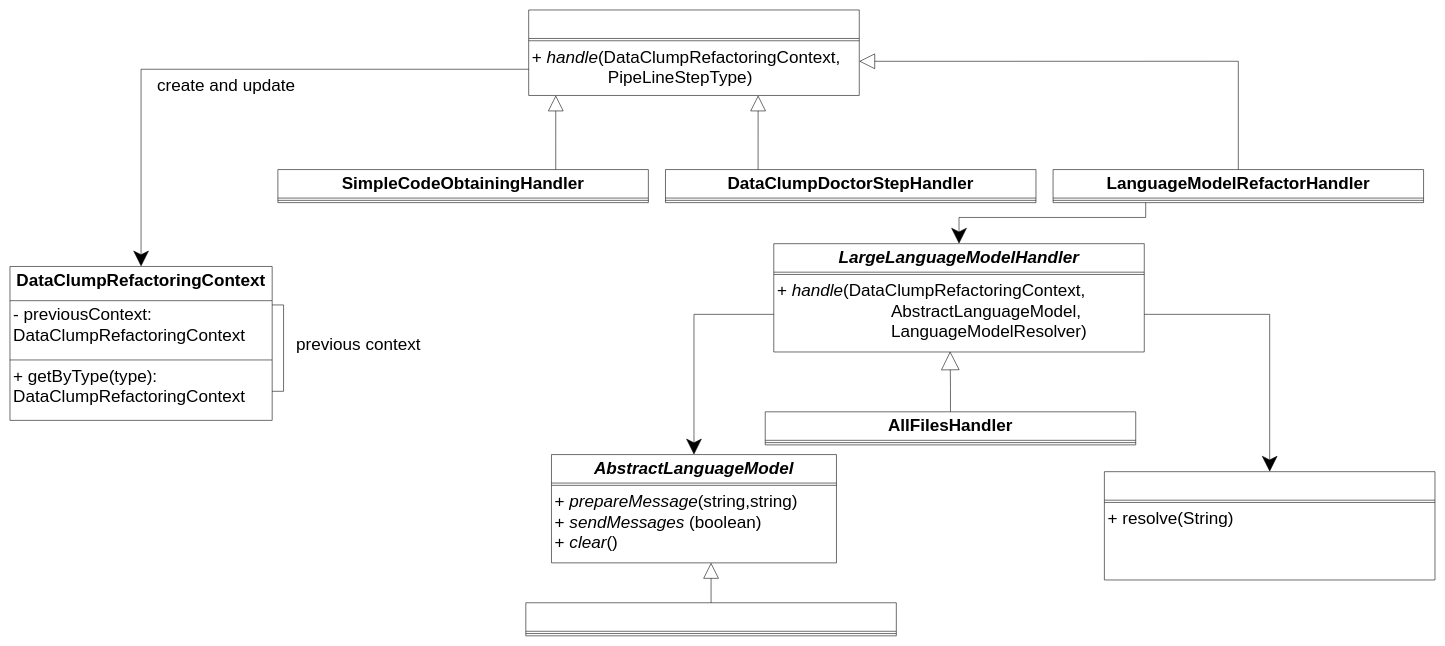
This 1445x646 diagram has some shape labels left out. Here are the shapes that lost their labels. From the top down, the box of each, then its label:
(528, 9, 859, 95): AbstractStepHandler
(1104, 471, 1435, 580): LanguageModelTemplateResolver
(525, 602, 896, 636): ChatGPTInterface
